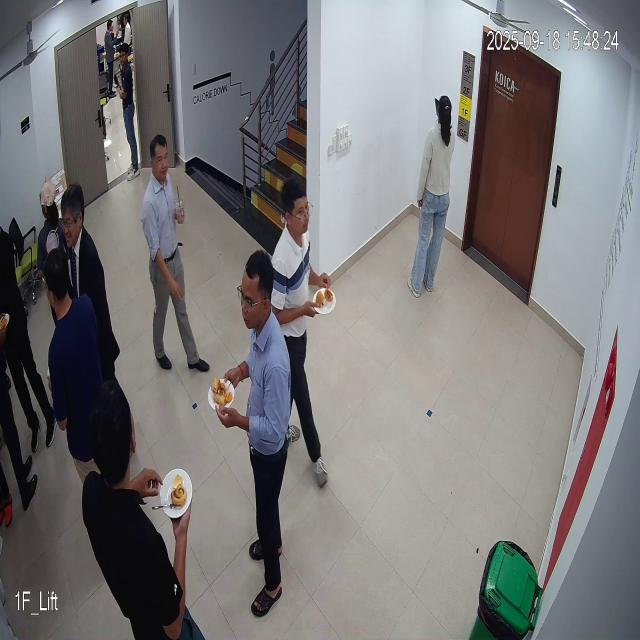face: (236, 244, 275, 336), (280, 174, 312, 238), (59, 180, 86, 253), (148, 134, 173, 180)
